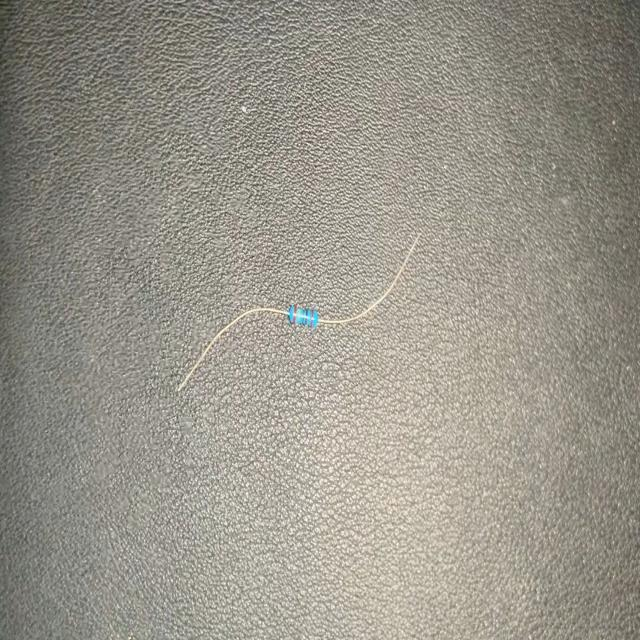resistor: (169, 220, 425, 402)
